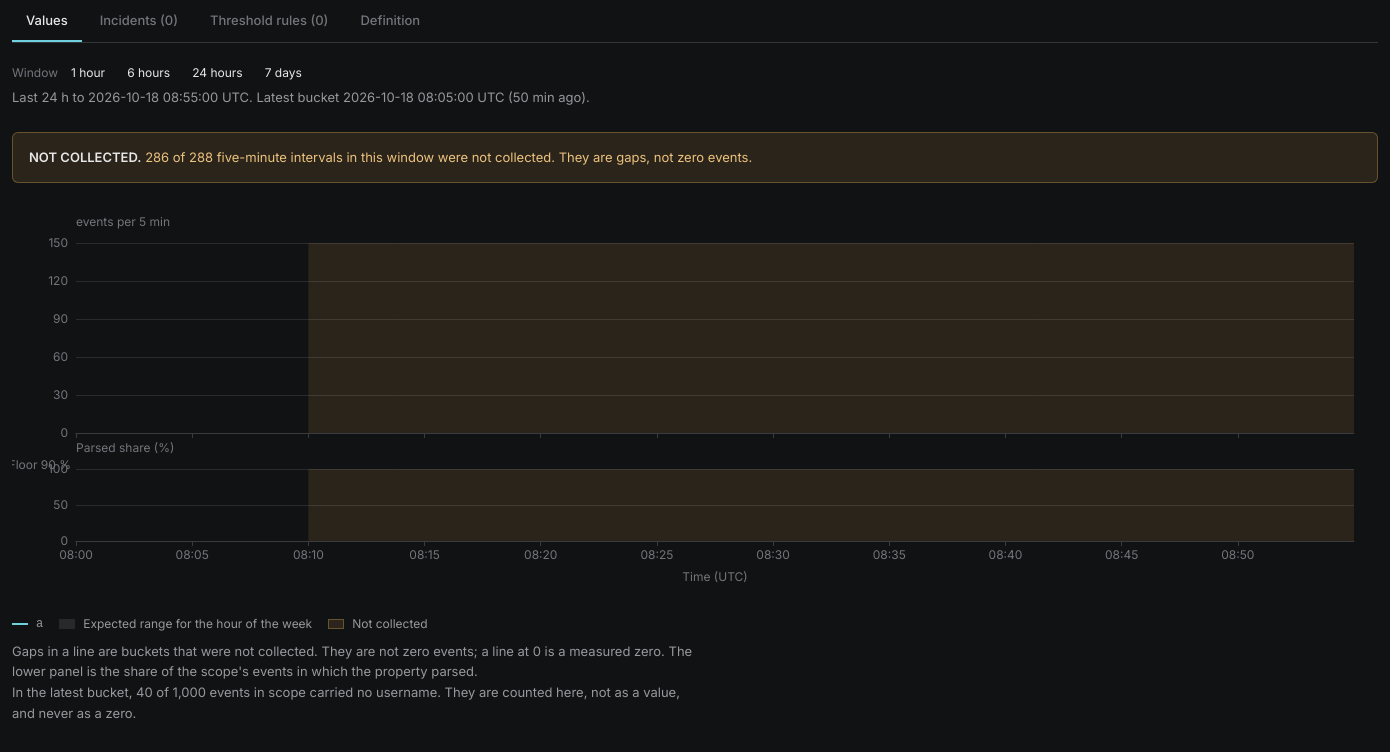
Test: the tabs › shows the generated query on the Definition tab
The width and height of the screenshot is (1390, 752).
Click the tab "Definition" at point(390, 21), box [346,0,434,42]
(page scrolled)
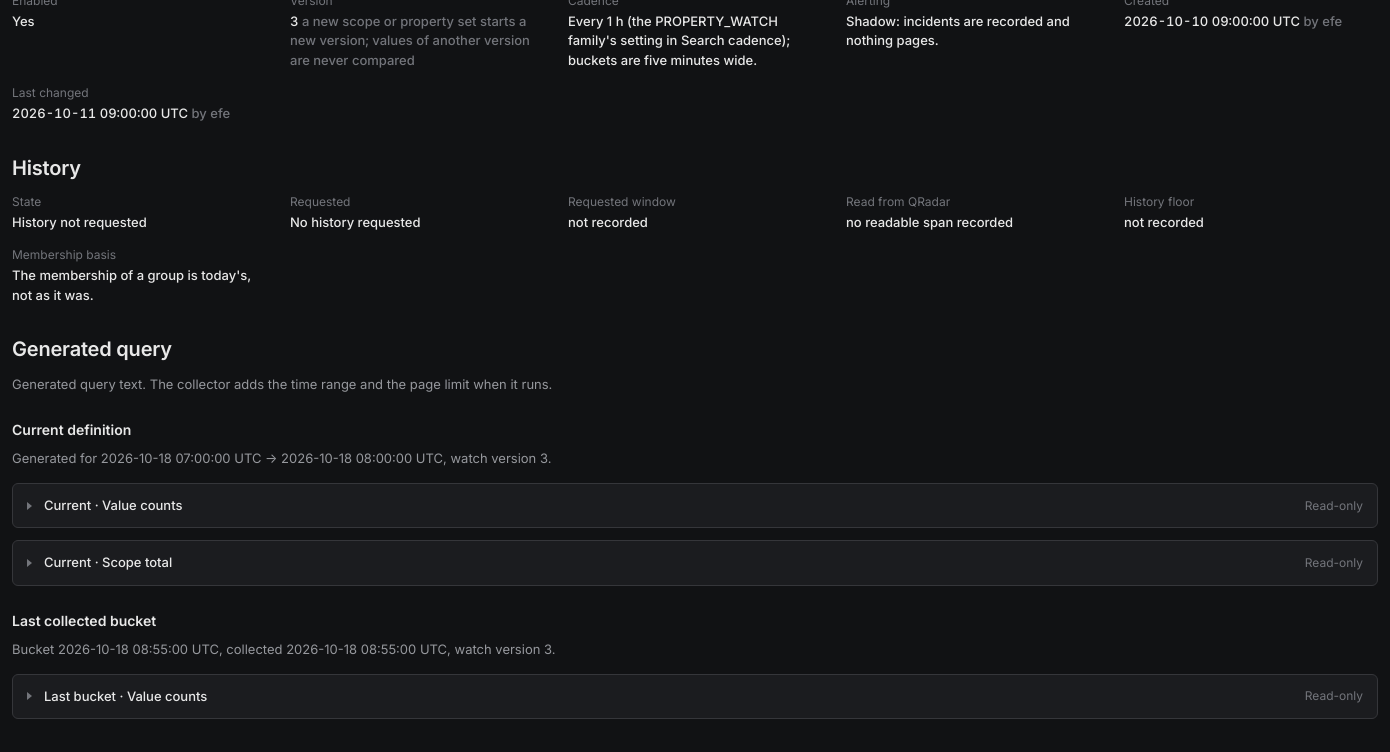
Now the text "Generated query text. The collector adds the time range" is shown, box [12,376,552,392]
